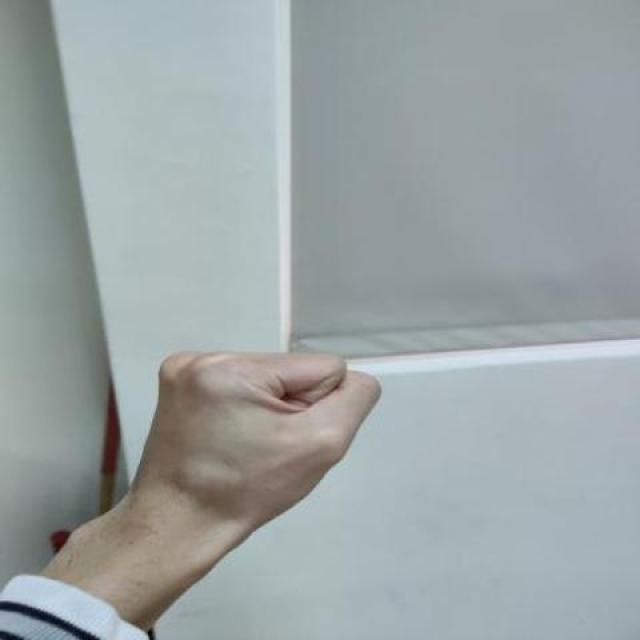Closed Hand: (117, 340, 388, 560)
